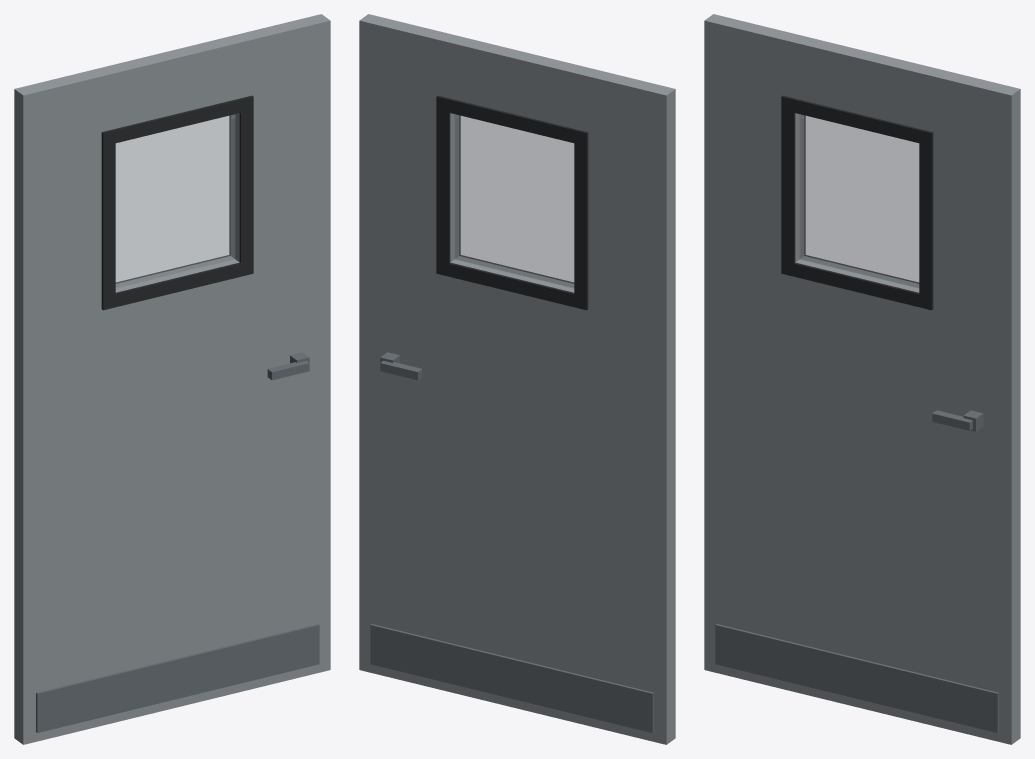
Rendered from door_office.glb.
3 renders of one model, left to right at view 1: azimuth 30°, elevation 25°; view 2: azimuth 150°, elevation 25°; view 3: azimuth 330°, elevation 25°, orthographic.
Visible parts, largest first — view 1: door_office; view 2: door_office; view 3: door_office.
Part boxes in pixels (x1=…): door_office: x1=14, y1=14, x2=330, y2=744; door_office: x1=359, y1=14, x2=675, y2=744; door_office: x1=704, y1=14, x2=1020, y2=744.
Size of the model in its own units: 0.98 by 1.98 by 0.165.
4 materials, 4 textured.
